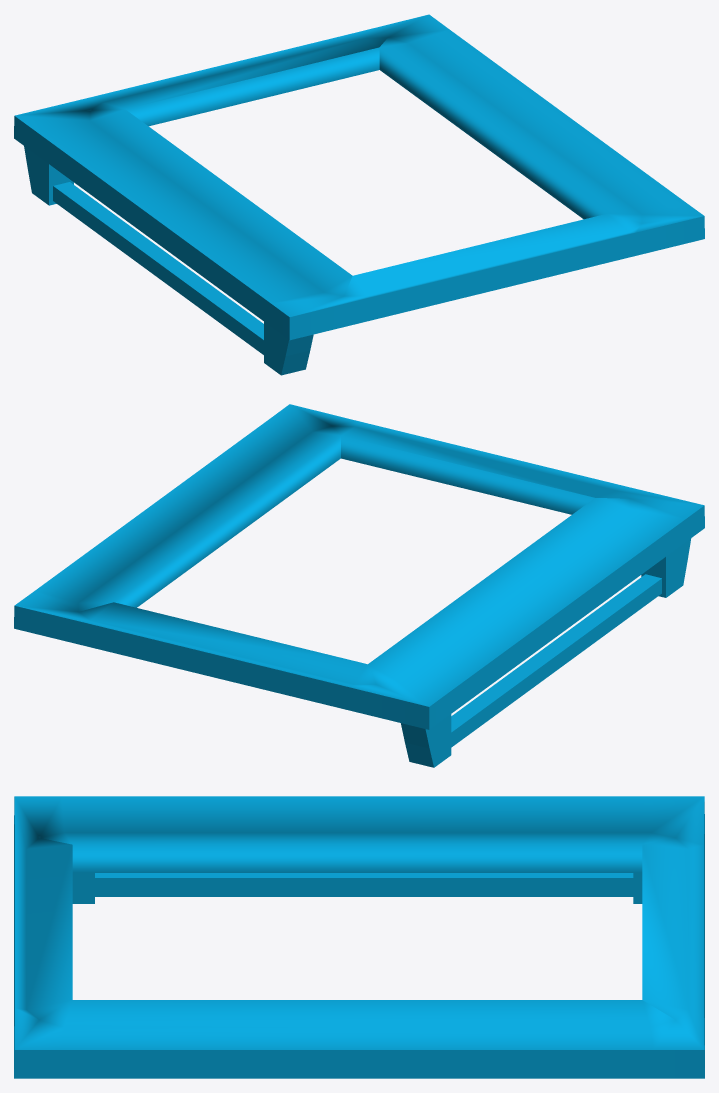
File: Gas_Stove_Door_Lod0.fbx
The picture shows the model from 3 angles, top to bottom: view 1: azimuth 30°, elevation 25°; view 2: azimuth 150°, elevation 25°; view 3: azimuth 270°, elevation 25°; orthographic projection. The views are drawn at different scales.
Visible parts, largest first — view 1: Gas_Stove_Door_Lod0; view 2: Gas_Stove_Door_Lod0; view 3: Gas_Stove_Door_Lod0.
Part boxes in pixels (left/top/right/bottom): Gas_Stove_Door_Lod0: left=14, top=14, right=704, bottom=375; Gas_Stove_Door_Lod0: left=14, top=404, right=704, bottom=767; Gas_Stove_Door_Lod0: left=14, top=796, right=704, bottom=1078.
Size of the model in its own units: 46.71 by 7.98 by 53.73.
